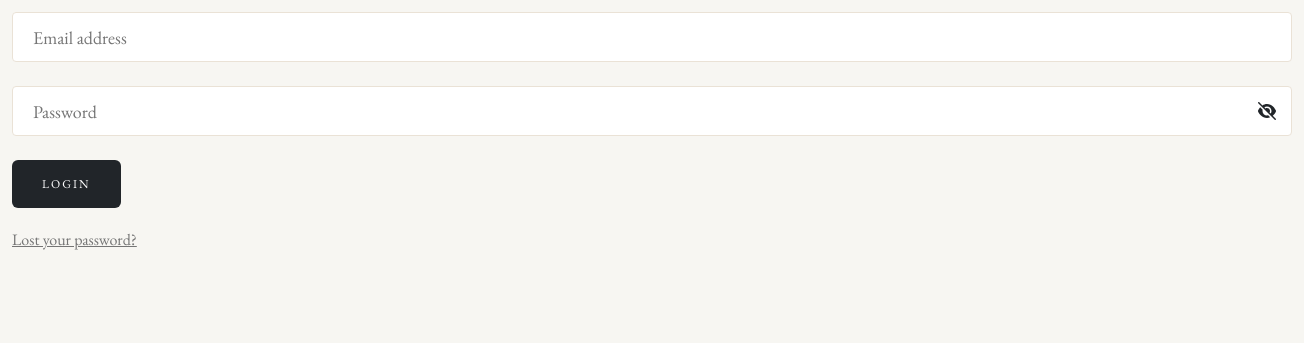
Scenario: LoginForm component › shows error message for password less than 8 characters
The width and height of the screenshot is (1304, 343).
Type "pass" into the password field labelled "Password" at (652, 111), box [12,86,1292,136]
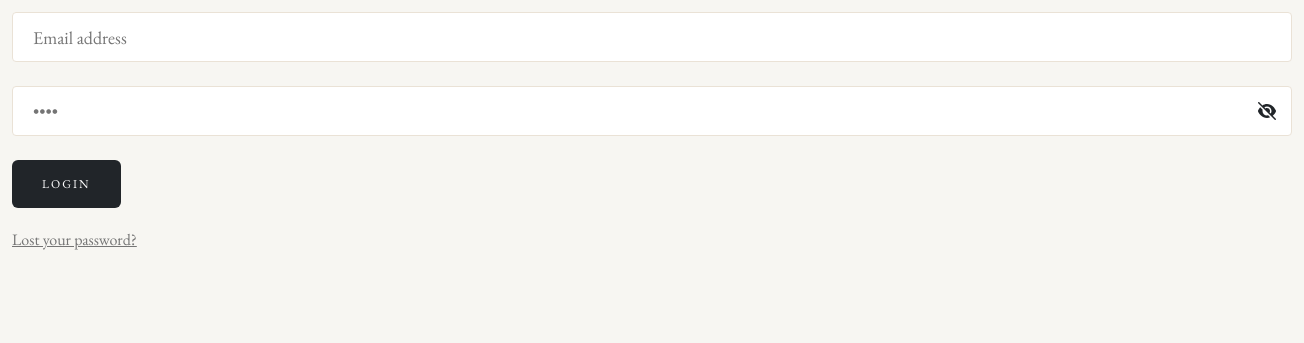
Click the button "Login" at (66, 184), box [12,160,120,208]
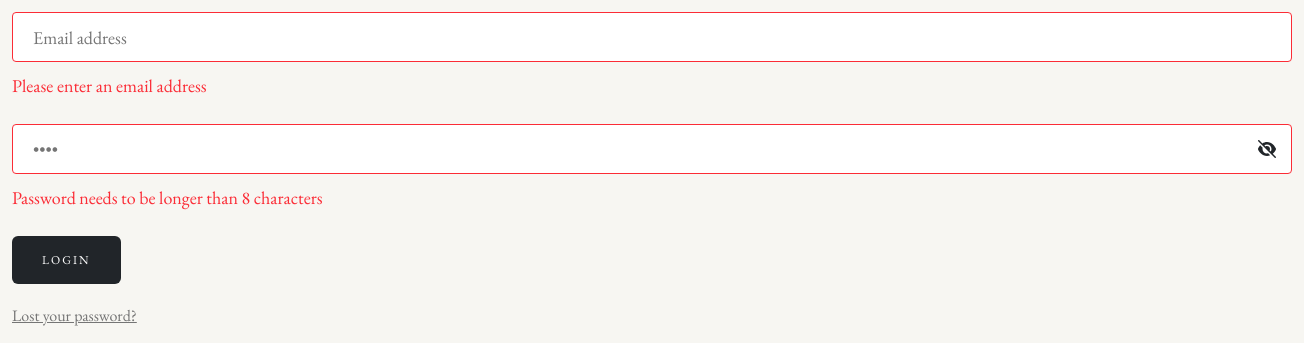
Now the text "Password needs to be longer than 8 characters" is shown, box [12,186,323,209]
